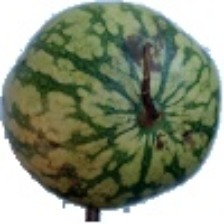watermelon: (43, 10, 207, 179)
